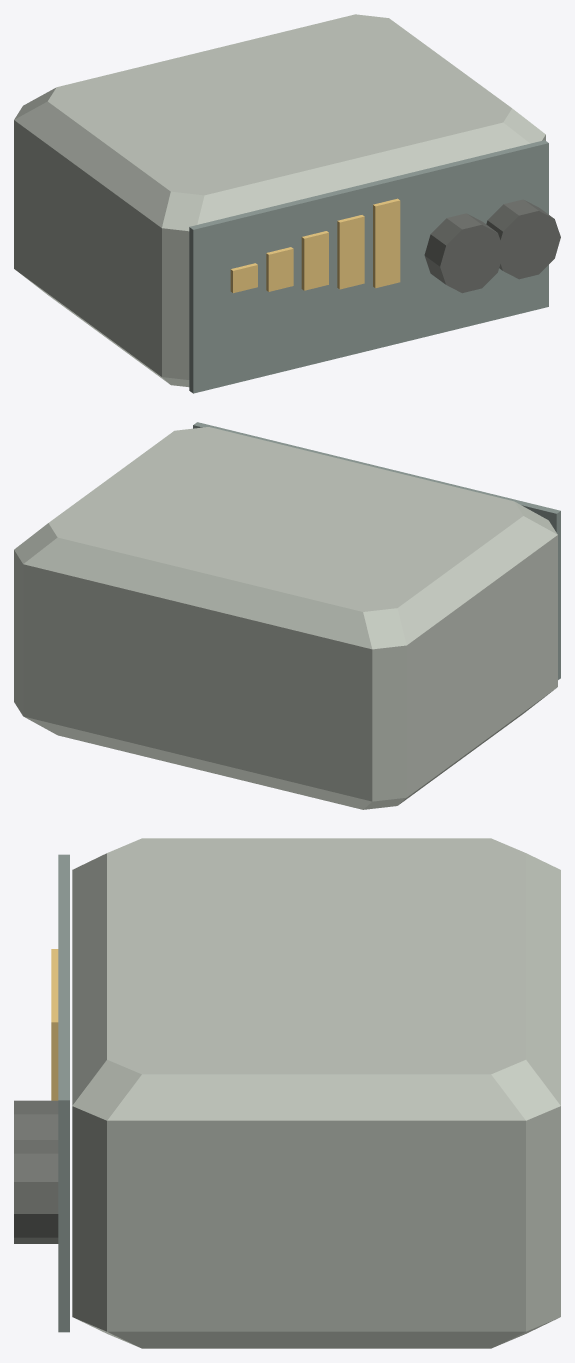
Rendered from lab_signal_generator.glb.
The picture shows the model from 3 angles, top to bottom: view 1: azimuth 30°, elevation 25°; view 2: azimuth 150°, elevation 25°; view 3: azimuth 270°, elevation 25°; orthographic projection. The views are drawn at different scales.
Parts seen in each view (by area): view 1: lab_signal_generator; view 2: lab_signal_generator; view 3: lab_signal_generator.
Boxes of the visible parts, <box> form: lab_signal_generator: <box>14,14,560,393</box>; lab_signal_generator: <box>14,422,560,809</box>; lab_signal_generator: <box>14,838,560,1348</box>.
Size of the model in its own units: 0.54 by 0.26 by 0.47.
